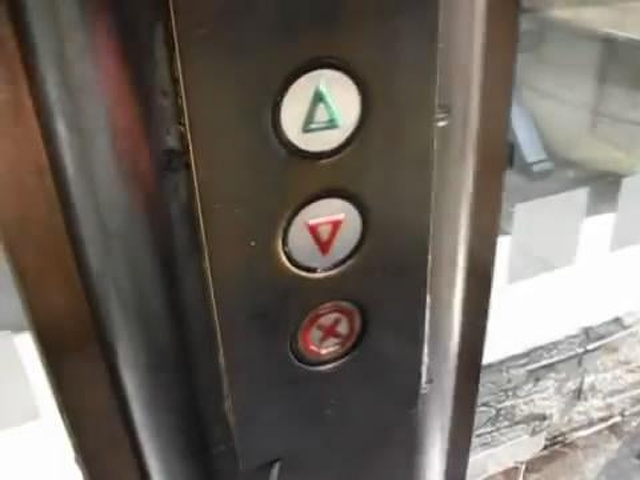down: (277, 188, 372, 279)
stop: (289, 299, 368, 370)
up: (271, 55, 368, 160)
